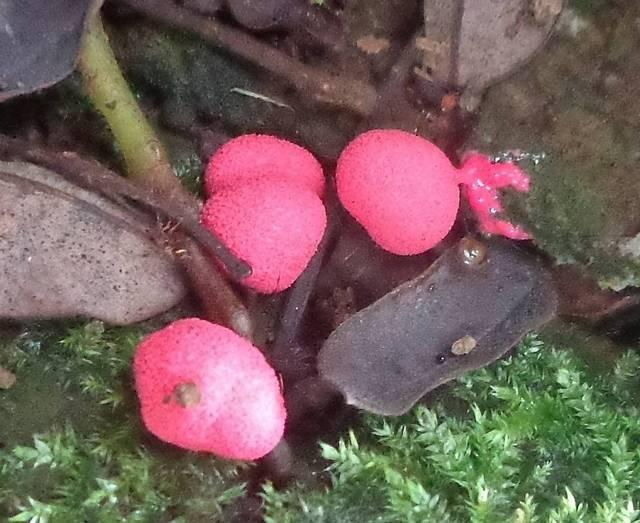poisonous_mushroom: (334, 126, 532, 256), (130, 315, 288, 461), (198, 131, 328, 295)
